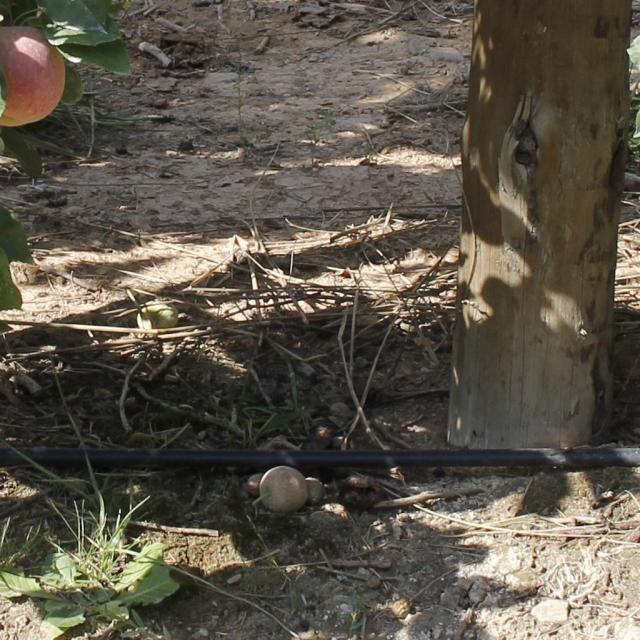apple: (248, 465, 321, 513), (138, 302, 176, 328)
